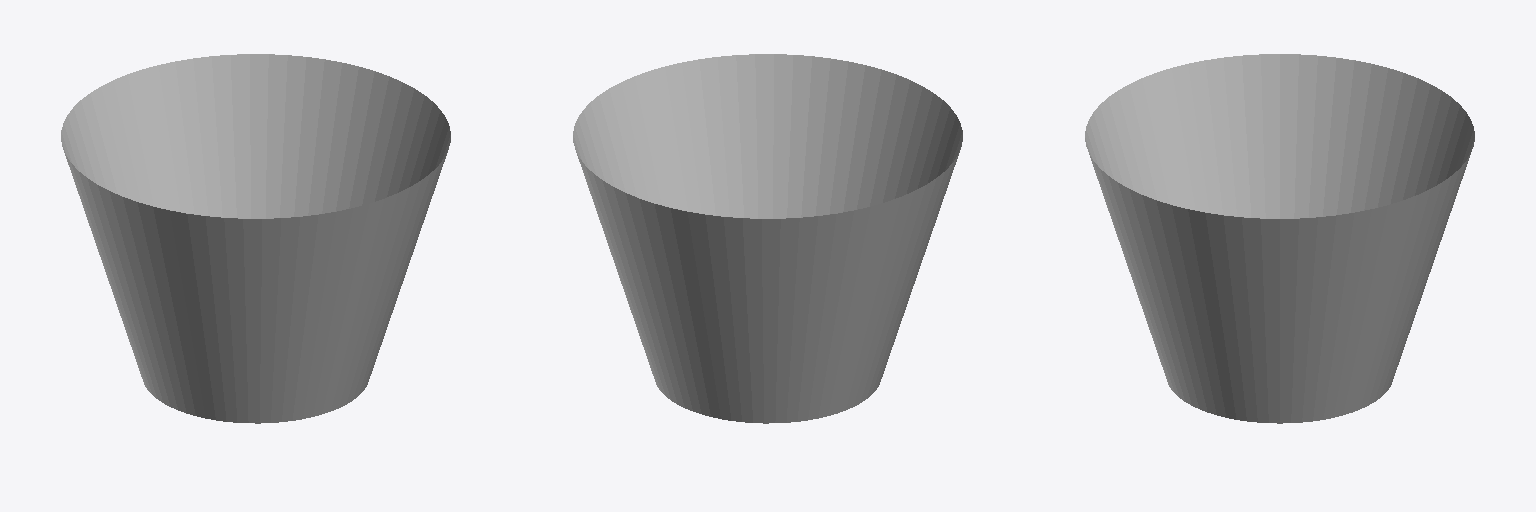
Rendered from holoCone.obj.
3 views of the same model, side by side, from view 1: azimuth 30°, elevation 25°; view 2: azimuth 150°, elevation 25°; view 3: azimuth 270°, elevation 25° (orthographic).
Visible parts, largest first — view 1: Cylinder; view 2: Cylinder; view 3: Cylinder.
Boxes of the visible parts, <box> form: Cylinder: <box>61,54,450,423</box>; Cylinder: <box>573,54,962,423</box>; Cylinder: <box>1085,54,1474,423</box>.
Bounding box in the file's own units: 1.37 × 0.9284 × 1.37.